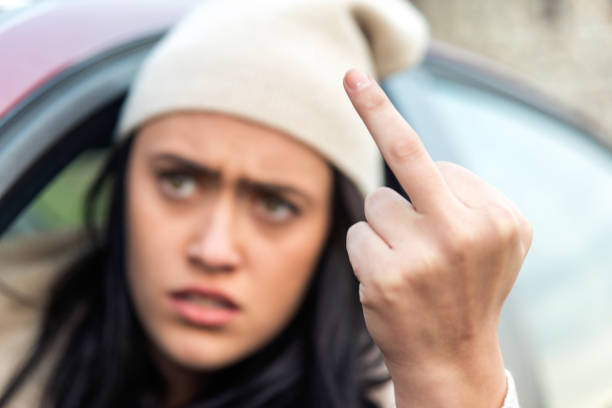insulting_gesture: (338, 63, 534, 373)
